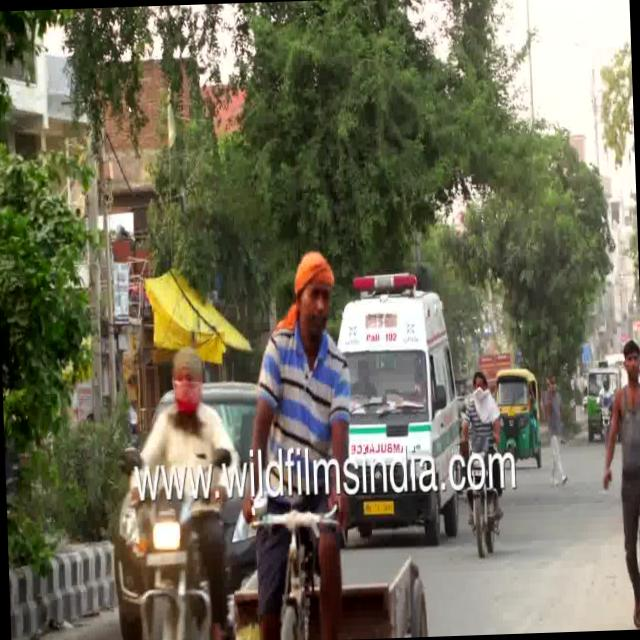ambulance: (341, 255, 470, 542)
